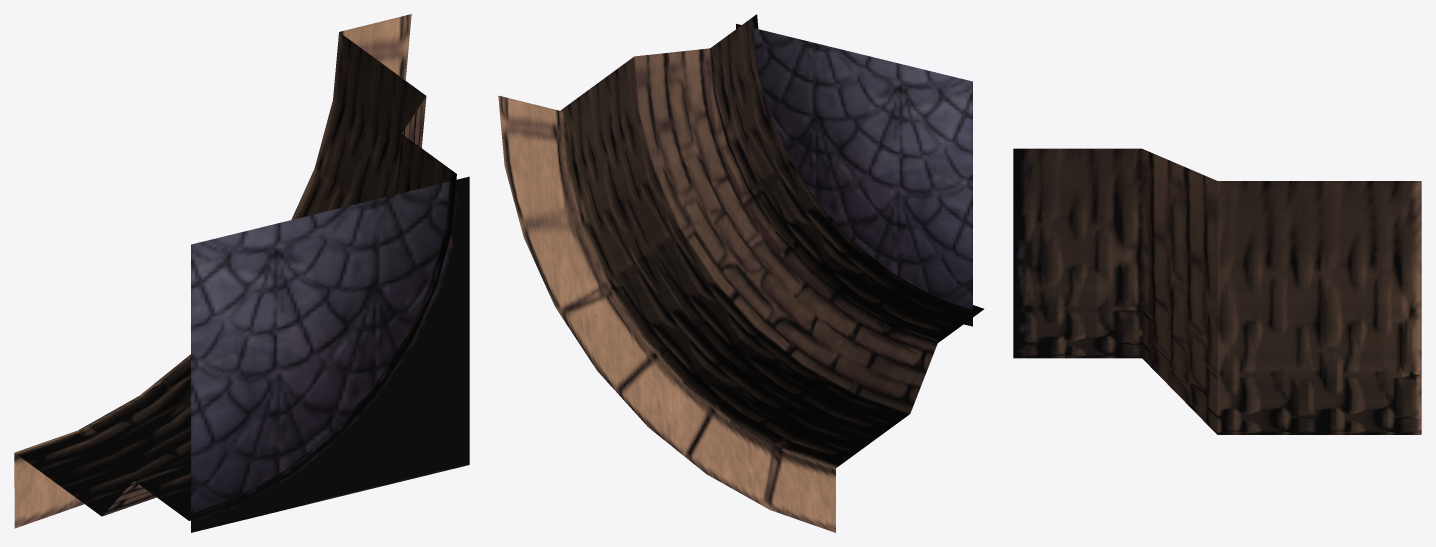
File: ex_InCorner.obj
The picture shows the model from 3 angles, left to right: view 1: azimuth 30°, elevation 25°; view 2: azimuth 150°, elevation 25°; view 3: azimuth 270°, elevation 25°; orthographic projection. The views are drawn at different scales.
Visible parts, largest first — view 1: ex_InCorner2_Cube.238; view 2: ex_InCorner2_Cube.238; view 3: ex_InCorner2_Cube.238.
Boxes of the visible parts, box(x1,y1,x2,y2) form: ex_InCorner2_Cube.238: box(14, 14, 469, 532); ex_InCorner2_Cube.238: box(498, 14, 983, 532); ex_InCorner2_Cube.238: box(1013, 148, 1421, 434).
Bounding box in the file's own units: 178 × 179 × 136.
